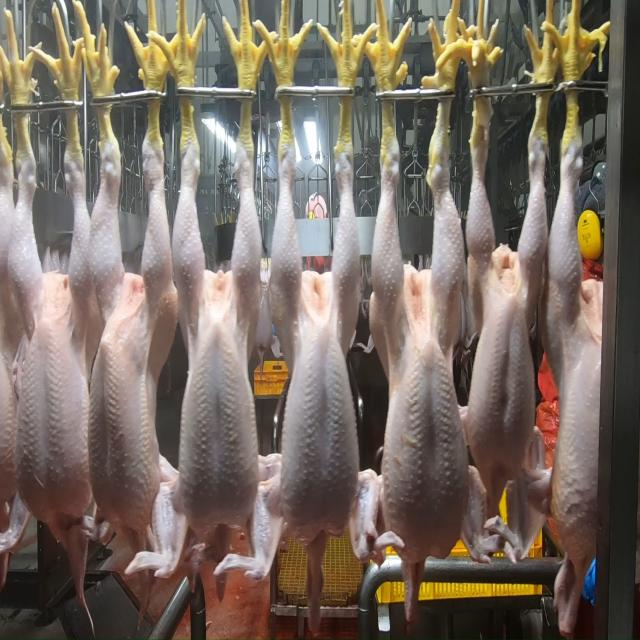chicken: (373, 120, 471, 570), (170, 125, 264, 567), (86, 124, 180, 539), (278, 102, 362, 539), (541, 130, 623, 562), (463, 95, 550, 472), (8, 150, 95, 523)
